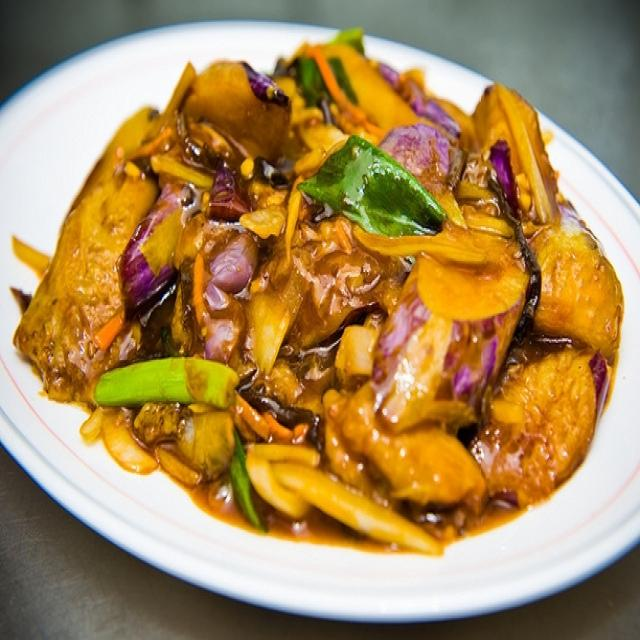鸡蛋料理: (25, 20, 630, 596)
